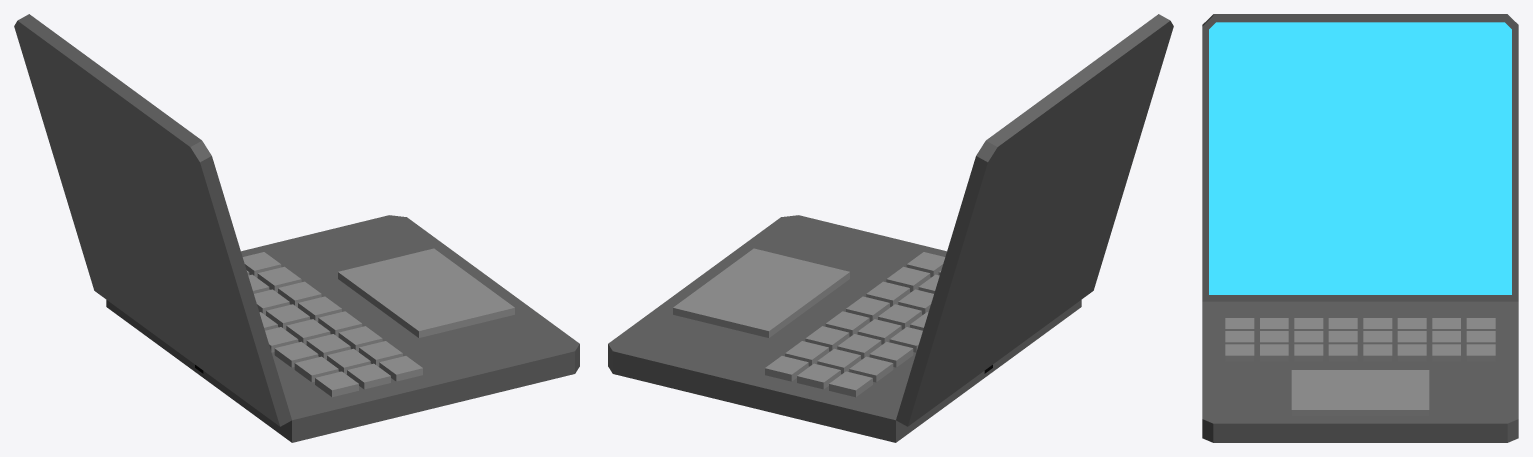
File: Laptop_On_White.fbx
The picture shows the model from 3 angles, left to right: view 1: azimuth 30°, elevation 25°; view 2: azimuth 150°, elevation 25°; view 3: azimuth 270°, elevation 25°; orthographic projection. The views are drawn at different scales.
Visible parts, largest first — view 1: Laprop_main_On_White, Laptop_Screen_On_White; view 2: Laprop_main_On_White, Laptop_Screen_On_White; view 3: Laptop_Screen_On_White, Laprop_main_On_White.
Part boxes in pixels (x1,y1,x2,y2): Laprop_main_On_White: [106, 215, 579, 442]; Laptop_Screen_On_White: [14, 14, 291, 426]; Laprop_main_On_White: [608, 215, 1081, 442]; Laptop_Screen_On_White: [896, 14, 1173, 426]; Laptop_Screen_On_White: [1202, 14, 1518, 300]; Laprop_main_On_White: [1202, 295, 1518, 442].
Bounding box in the file's own units: 476 × 372 × 394.
